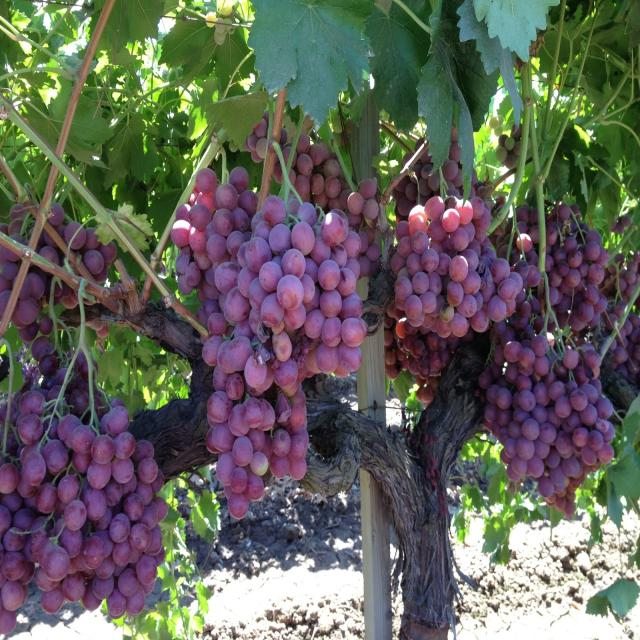grape: (174, 148, 367, 522), (0, 376, 182, 631), (386, 152, 522, 392), (494, 325, 632, 528)
